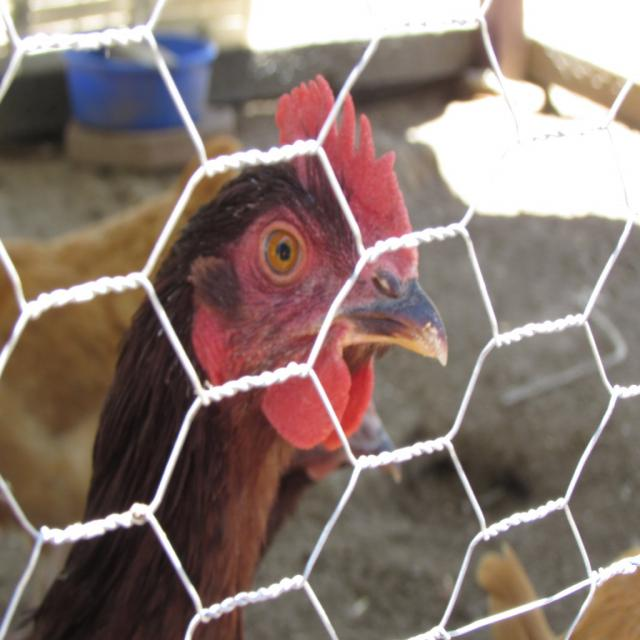Chicken: (42, 108, 458, 611)
